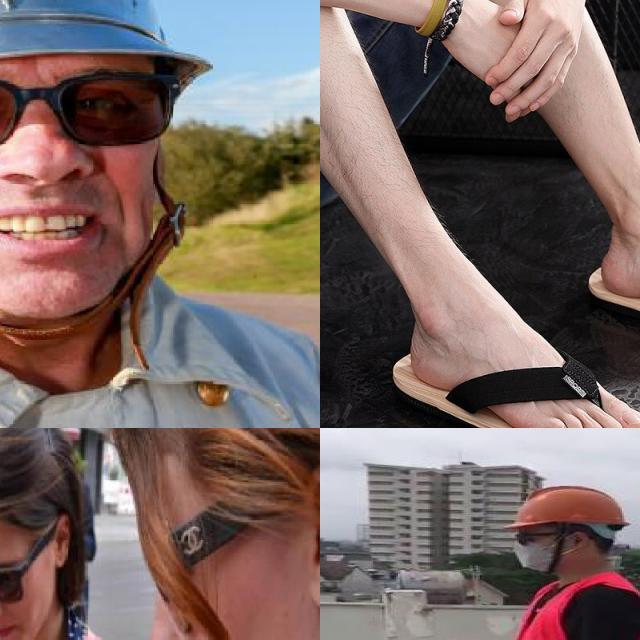No_Ear-Protection: (292, 458, 320, 616)
Sandals: (379, 295, 640, 428), (591, 223, 640, 364)
face_mask: (506, 526, 576, 571)
face_nomask: (0, 62, 176, 295), (129, 509, 280, 640), (0, 547, 40, 640)
glasses: (0, 49, 191, 158), (0, 550, 29, 605), (508, 526, 562, 550)
head_helmet: (0, 0, 214, 113), (507, 483, 629, 532)
head_nohelmet: (118, 428, 320, 503), (0, 432, 67, 529)
person: (0, 428, 148, 640), (475, 481, 640, 640)
vest: (492, 574, 640, 640)
